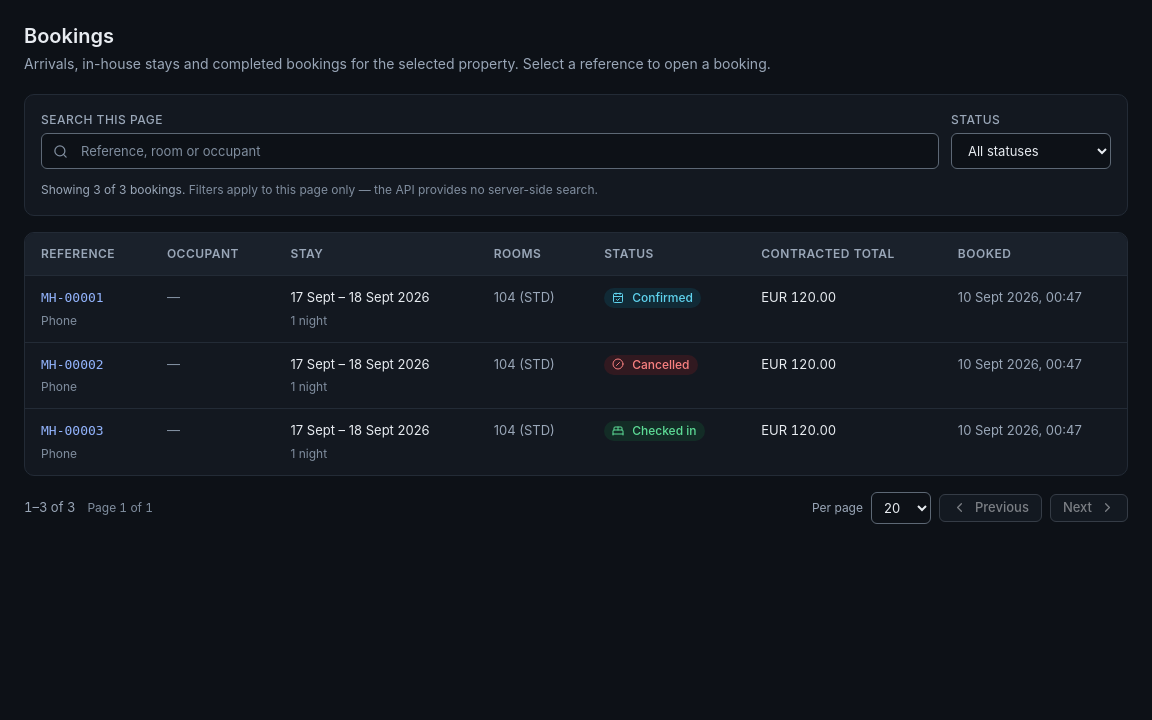
Test: filtering › narrows by status without issuing a request
This screenshot has width=1152, height=720.
Expected: the link "MH-00001" is shown, [41,288,104,308]
Step 1. Select "Cancelled" in the dropdown labelled "Status" → (1031, 151), box [951,133,1111,169]
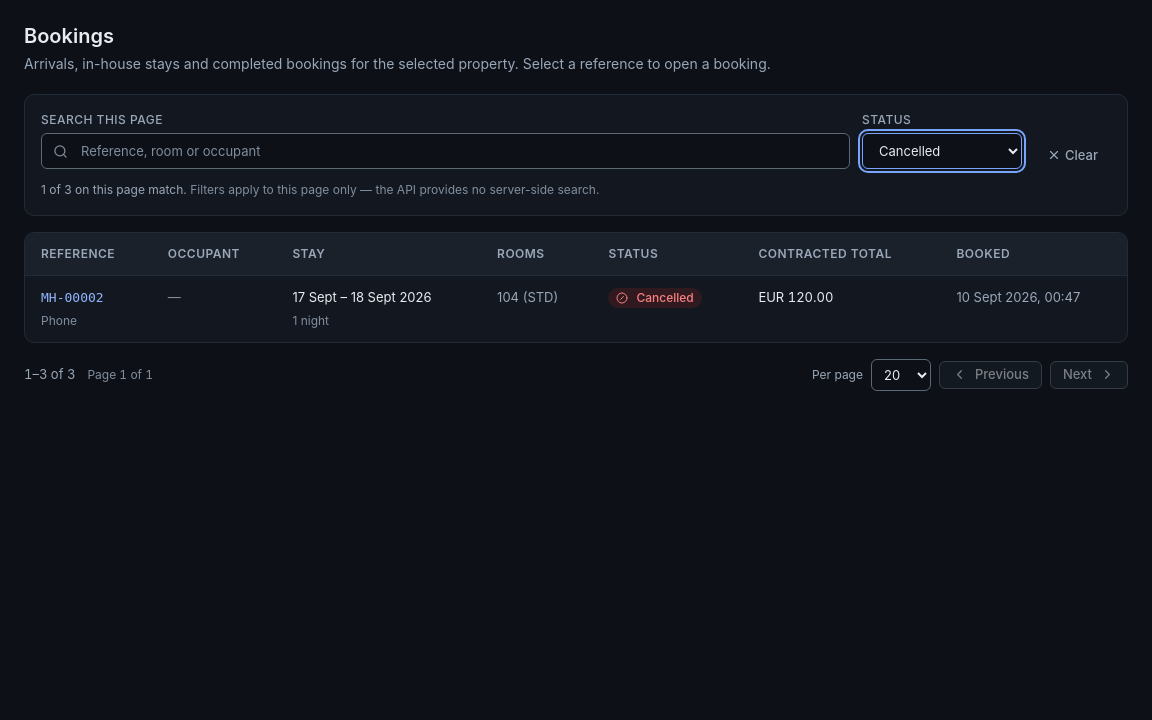
Expected: the link "MH-00002" is shown, [41,288,104,308]
Expected: the link "MH-00001" is gone
